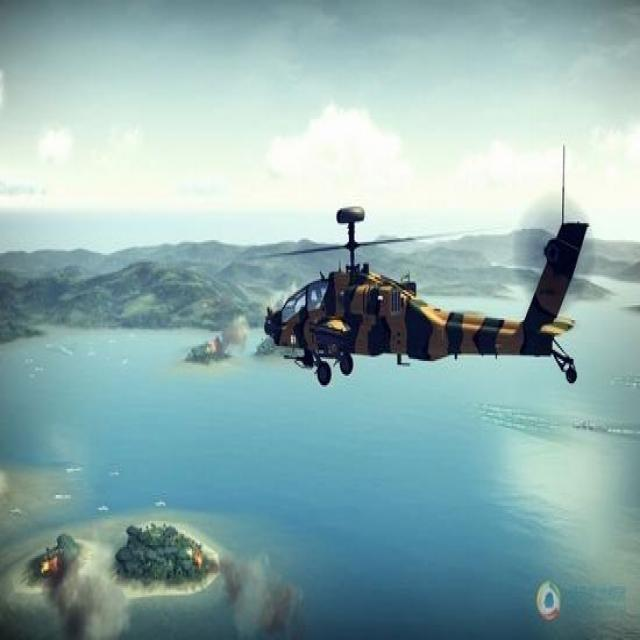MIL_HELO: (217, 174, 616, 422)
